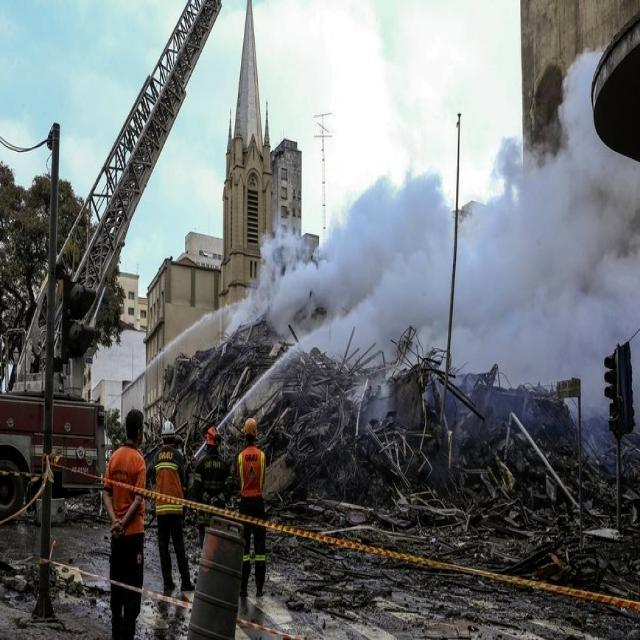Smoke: (250, 54, 640, 412)
